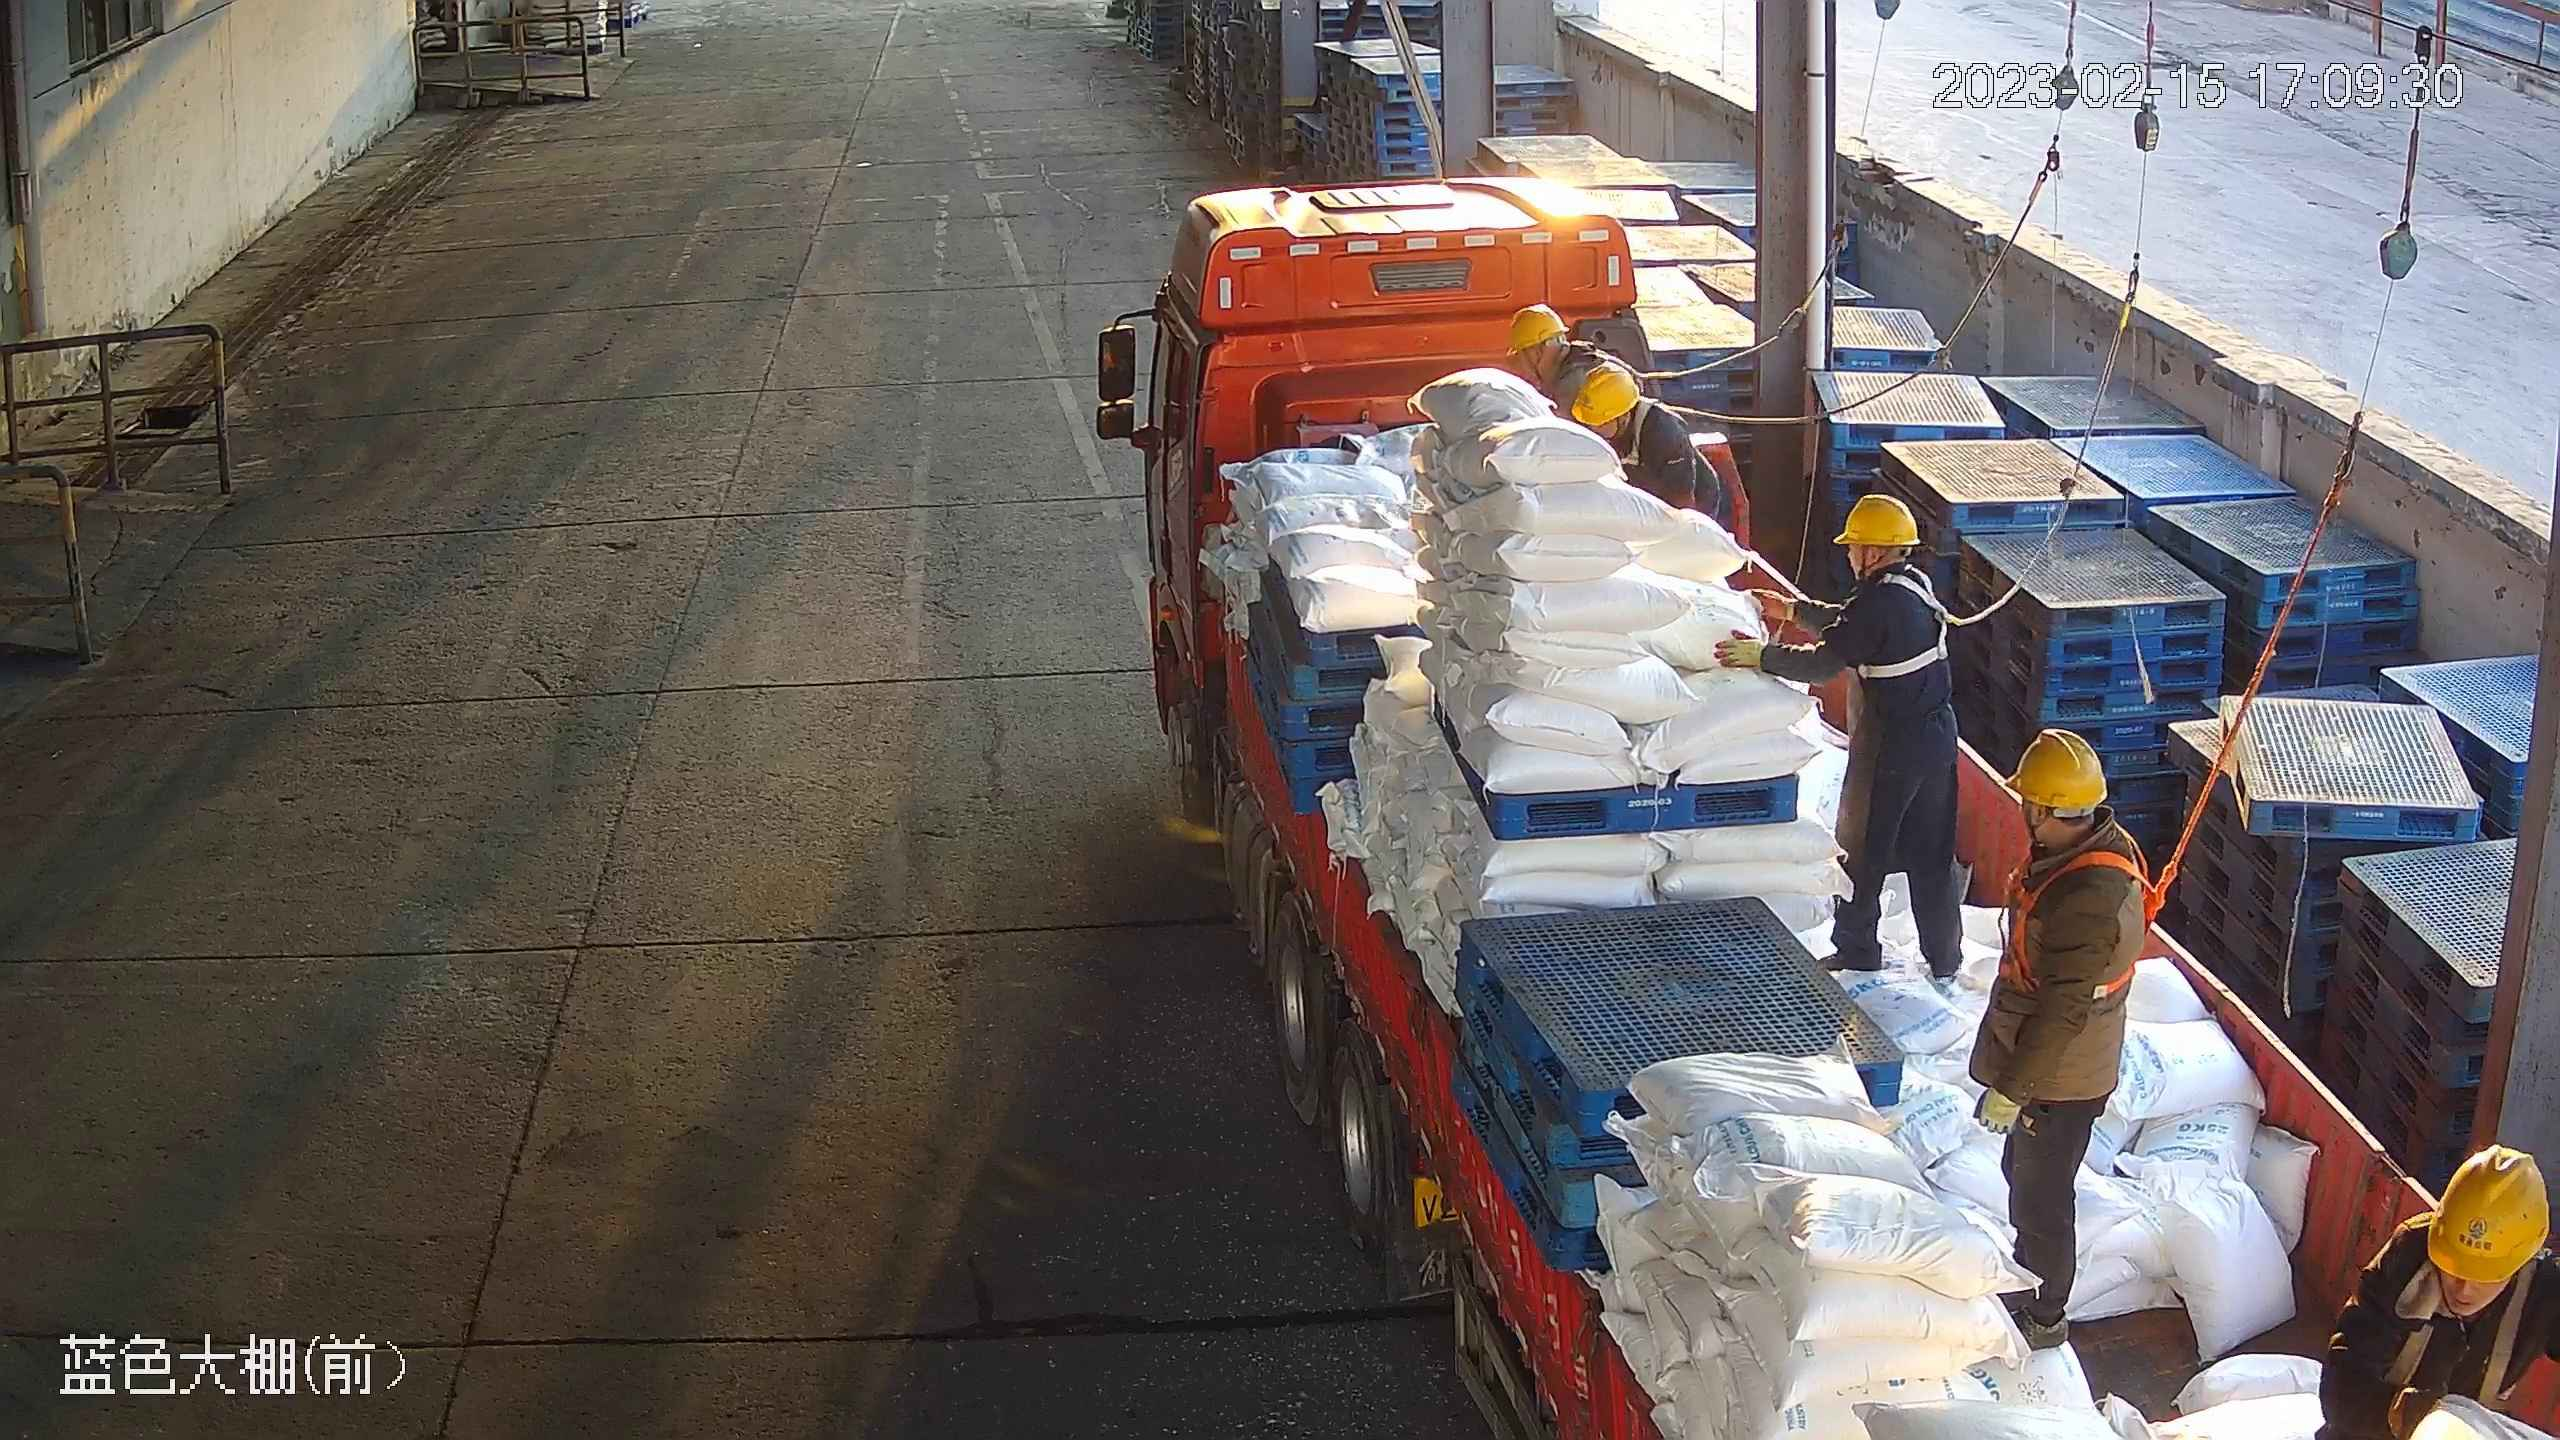belt: (2009, 858, 2163, 995), (2404, 1306, 2516, 1399), (1874, 574, 1970, 678), (1621, 411, 1669, 474), (1567, 341, 1623, 376)
head: (2392, 1143, 2558, 1304), (1997, 732, 2135, 890), (1814, 497, 1937, 618), (1570, 362, 1676, 450), (1502, 304, 1605, 381)
helmet: (2430, 1146, 2549, 1279), (2006, 732, 2107, 813), (1832, 493, 1918, 546), (1572, 365, 1637, 425), (1499, 306, 1569, 353)
people: (1974, 729, 2165, 1351), (1742, 497, 1972, 981)
truck: (1093, 172, 2560, 1440)
